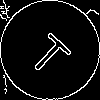T: (25, 25, 78, 80)
